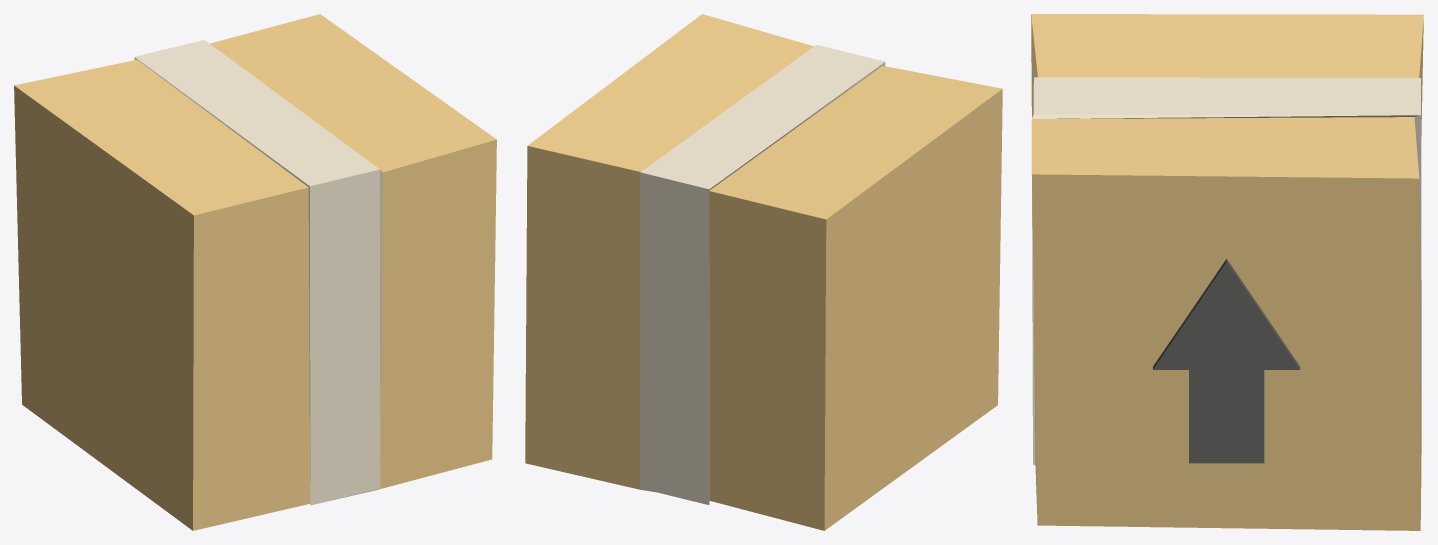
Rendered from Cardboard_Box_Closed.glb.
3 renders of one model, left to right at view 1: azimuth 30°, elevation 25°; view 2: azimuth 150°, elevation 25°; view 3: azimuth 270°, elevation 25°, orthographic. The views are drawn at different scales.
Visible parts, largest first — view 1: Box_Closed; view 2: Box_Closed; view 3: Box_Closed.
Part boxes in pixels (box(x1,y1,x2,y2)): Box_Closed: box(14, 14, 496, 530); Box_Closed: box(525, 14, 1002, 530); Box_Closed: box(1031, 14, 1423, 530).
Size of what is drawn, in the model's own units: 0.7023 by 0.7005 by 0.7008.
Materials: 1 (1 with a texture image).
